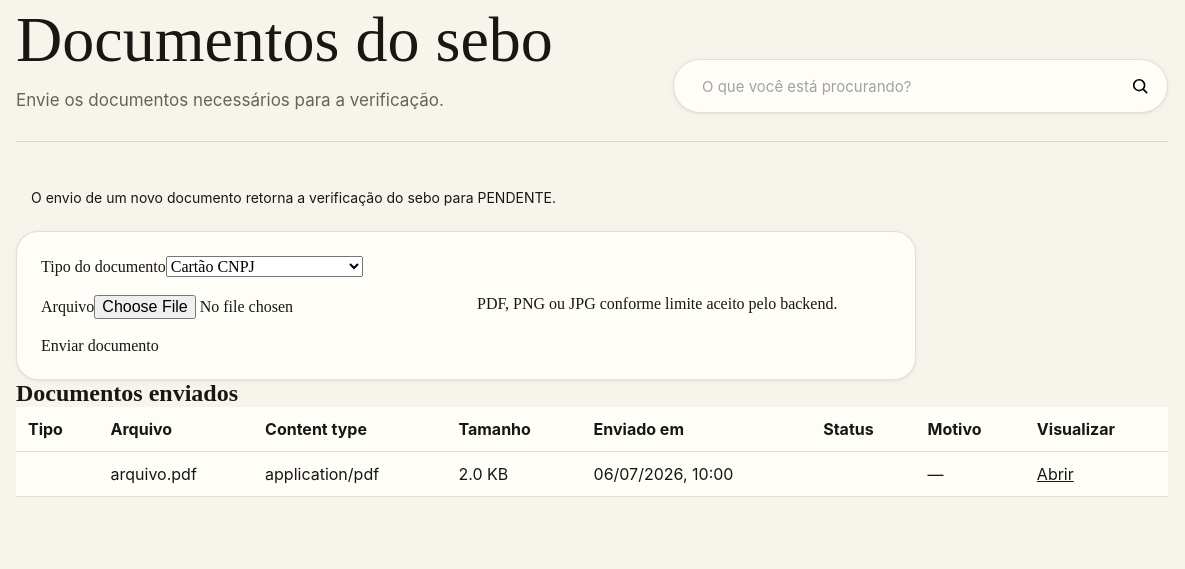
abertura autenticada de documentos de verificacao › mostra uma mensagem de erro na tela quando o documento nao pode ser aberto
Click the button "Abrir" at [1055, 474], box top-left (1037, 464), bottom-right (1074, 484)
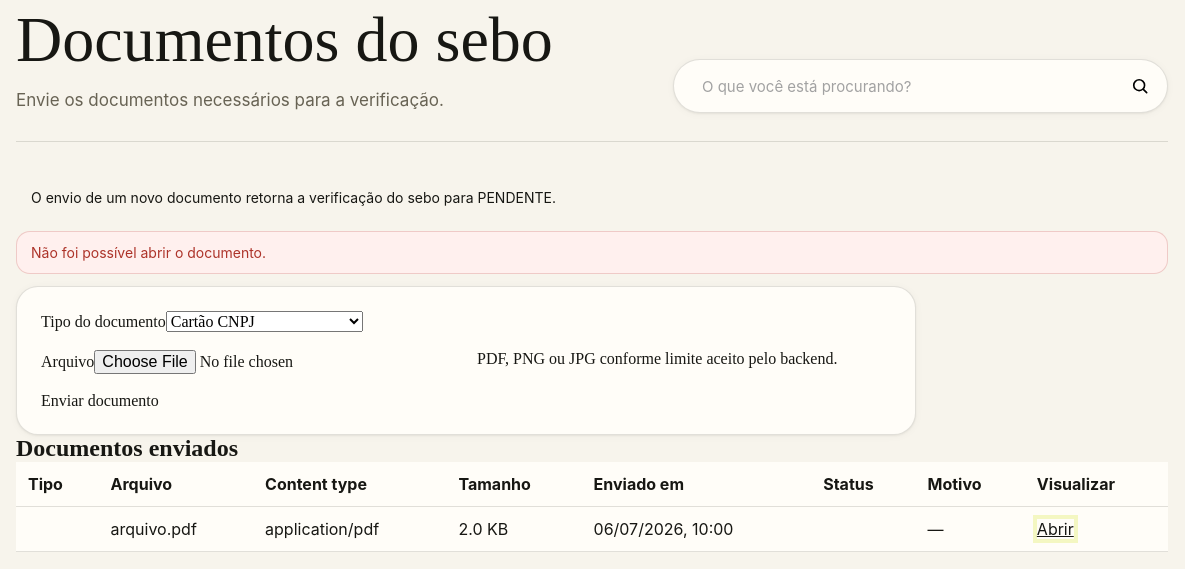
Expected: the text "Não foi possível abrir o documento." is shown, top-left (16, 231), bottom-right (1168, 274)
